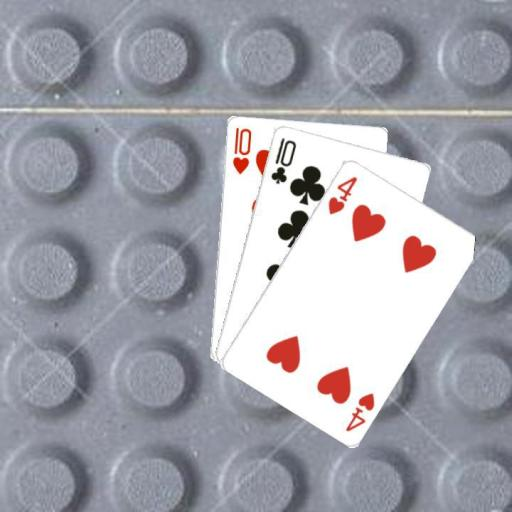10C: (268, 134, 298, 186)
10H: (229, 124, 252, 175)
4H: (324, 172, 359, 216), (342, 389, 376, 433)
